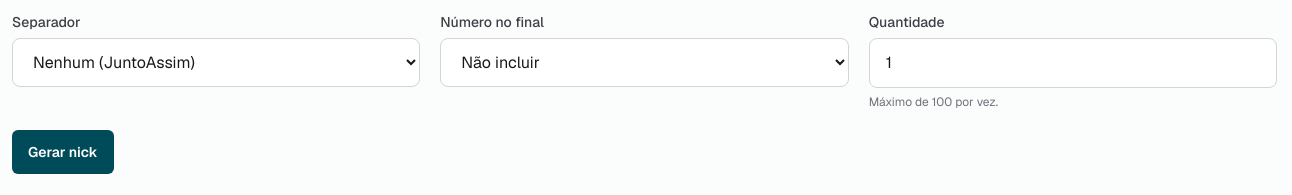
Test case: NicknameGeneratorTool › mostra erro quando a quantidade é maior que o limite
Type "999" into the field labelled "Quantidade".
click(1073, 63); type("999")  # box [869,38,1277,88]
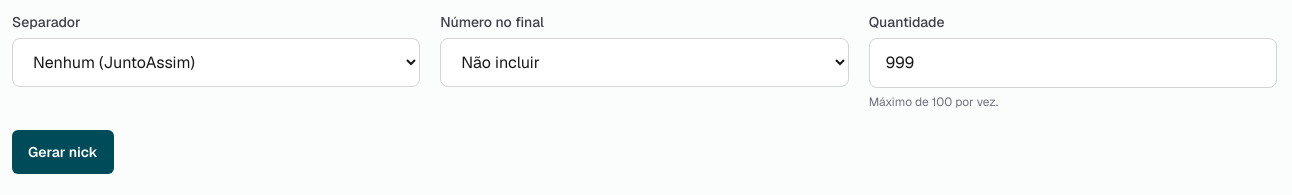
Click the button "Gerar nick".
click(63, 152)  # box [12,130,114,174]
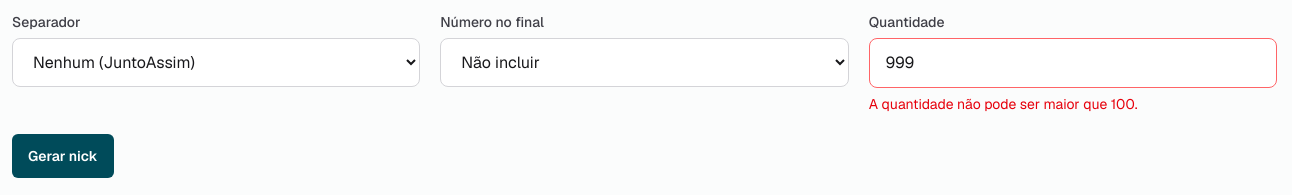
expect the text "A quantidade não pode ser maior que 100." is shown: met, box [869,95,1138,113]
